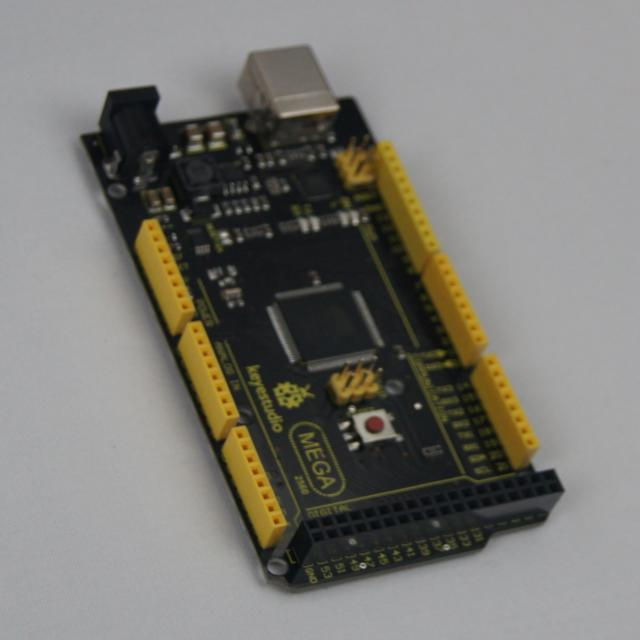Arduino Mega 2560 -Yellow-: (82, 48, 563, 589)
